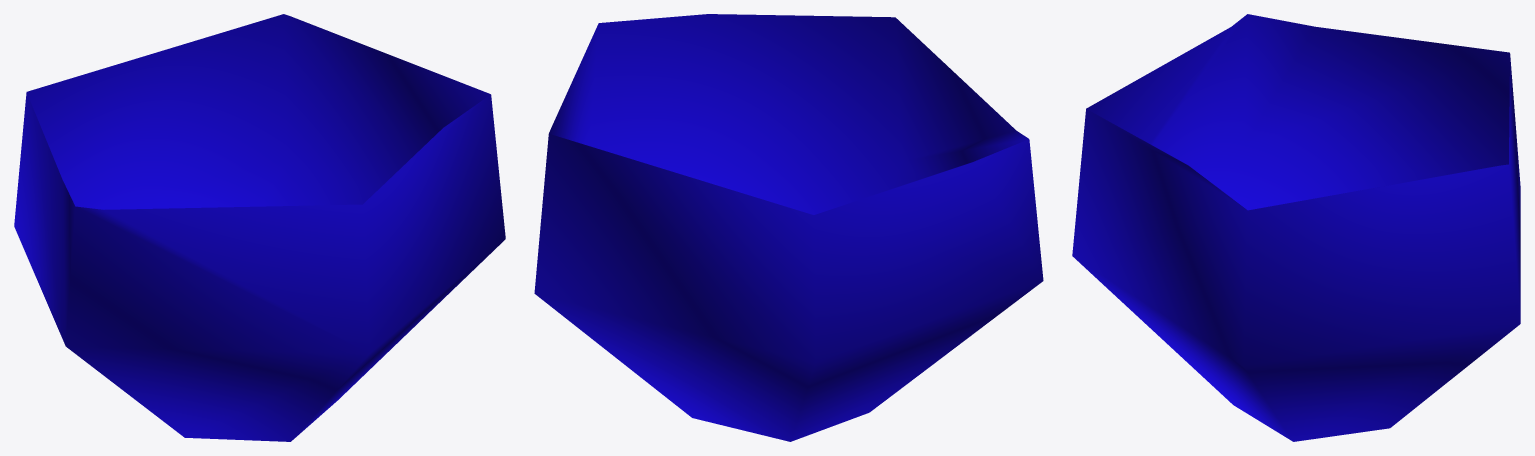
Rendered from EggHalf2.fbx.
3 views of the same model, side by side, from view 1: azimuth 30°, elevation 25°; view 2: azimuth 150°, elevation 25°; view 3: azimuth 270°, elevation 25° (orthographic). The views are drawn at different scales.
Visible parts, largest first — view 1: Sphere.001; view 2: Sphere.001; view 3: Sphere.001.
Part boxes in pixels (x1=…): Sphere.001: x1=14, y1=14, x2=505, y2=441; Sphere.001: x1=534, y1=14, x2=1043, y2=441; Sphere.001: x1=1072, y1=14, x2=1520, y2=441.
Bounding box in the file's own units: 148 × 97.83 × 128.
